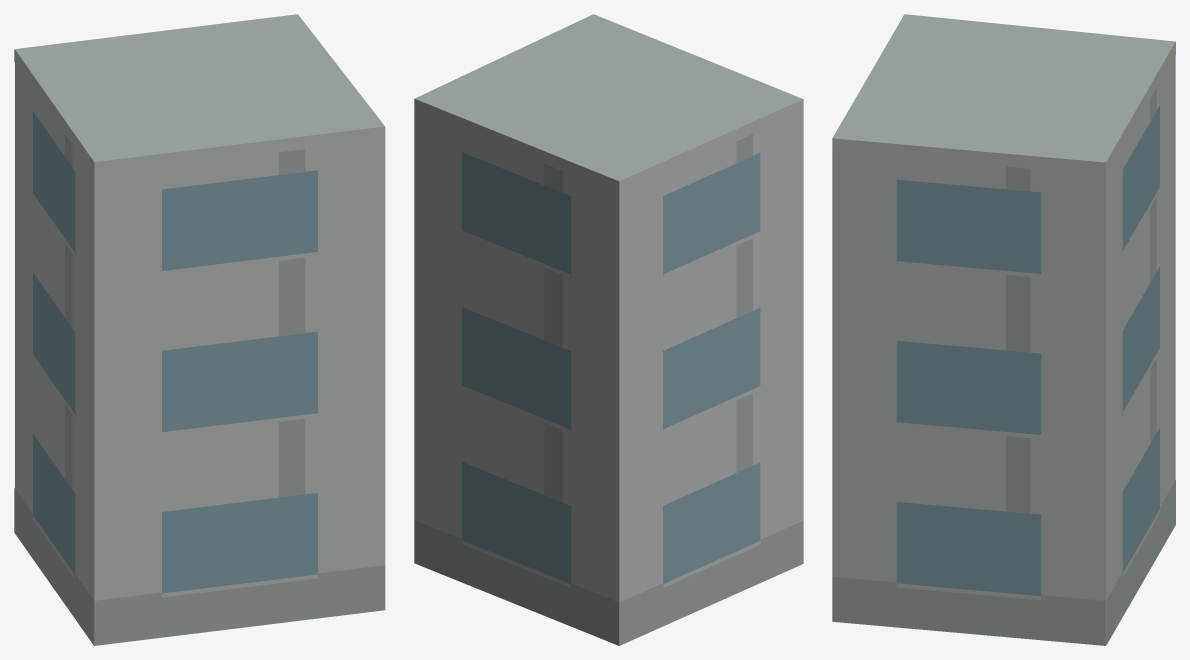
Rendered from survey-upis-32527708.glb.
The picture shows the model from 3 angles, left to right: view 1: azimuth 30°, elevation 25°; view 2: azimuth 150°, elevation 25°; view 3: azimuth 270°, elevation 25°; orthographic projection. The views are drawn at different scales.
Parts seen in each view (by area): view 1: survey-upis-32527708.tmp; view 2: survey-upis-32527708.tmp; view 3: survey-upis-32527708.tmp.
Part boxes in pixels (x1,y1,x2,y2): survey-upis-32527708.tmp: (14,14,385,645); survey-upis-32527708.tmp: (414,14,803,645); survey-upis-32527708.tmp: (832,14,1175,645).
Size of the model in its own units: 6.04 by 9.15 by 5.9.
